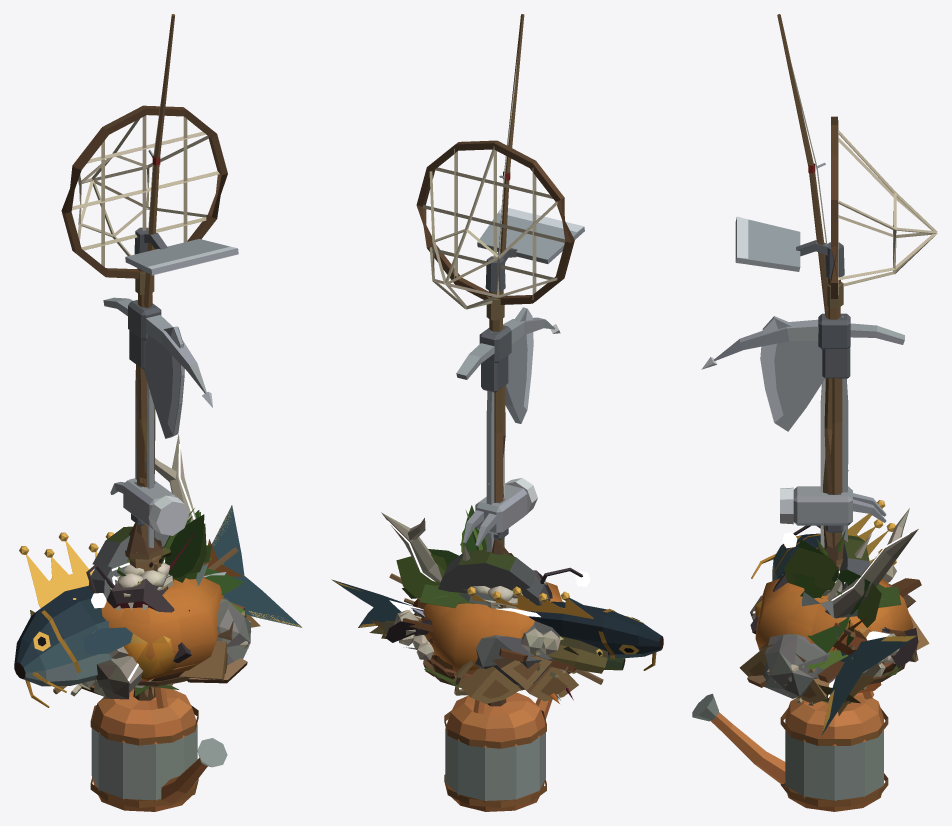
The model's file is items.glb.
3 views of the same model, side by side, from view 1: azimuth 30°, elevation 25°; view 2: azimuth 150°, elevation 25°; view 3: azimuth 270°, elevation 25° (orthographic). The views are drawn at different scales.
Visible parts, largest first — view 1: fish_sovereign, tool_can, tool_net, item_pumpkin, tool_axe, tool_pickaxe, tool_hoe, item_trophy_stag, tool_hammer, fish_angler, item_beet, tool_rod (+9 smaller); view 2: tool_can, tool_net, fish_sovereign, item_pumpkin, item_wood, tool_hoe, relic_tablet, tool_axe, tool_pickaxe, tool_hammer, item_stone, fish_eel (+8 smaller); view 3: tool_can, tool_axe, item_pumpkin, tool_pickaxe, tool_net, fish_sovereign, tool_hoe, tool_hammer, item_stone, item_trophy_stag, item_turnip, tool_rod (+7 smaller).
Boxes of the visible parts, left/top/right/bottom form: fish_sovereign: left=14, top=505, right=302, bottom=707; tool_can: left=90, top=687, right=227, bottom=811; tool_net: left=61, top=105, right=227, bottom=294; item_pumpkin: left=101, top=546, right=224, bottom=677; tool_axe: left=129, top=326, right=184, bottom=700; tool_pickaxe: left=103, top=297, right=212, bottom=535; tool_hoe: left=125, top=227, right=238, bottom=487; item_trophy_stag: left=96, top=434, right=196, bottom=699; tool_hammer: left=110, top=478, right=189, bottom=693; fish_angler: left=86, top=564, right=191, bottom=663; item_beet: left=165, top=510, right=243, bottom=595; tool_rod: left=143, top=14, right=174, bottom=697; tool_can: left=444, top=692, right=552, bottom=811; tool_net: left=416, top=140, right=574, bottom=320; fish_sovereign: left=331, top=579, right=663, bottom=670; item_pumpkin: left=419, top=582, right=561, bottom=678; item_wood: left=453, top=655, right=578, bottom=703; tool_hoe: left=477, top=208, right=584, bottom=331; relic_tablet: left=438, top=549, right=550, bottom=604; tool_axe: left=481, top=307, right=533, bottom=706; tool_pickaxe: left=456, top=317, right=560, bottom=545; tool_hammer: left=463, top=478, right=537, bottom=546; item_stone: left=475, top=621, right=564, bottom=686; fish_eel: left=369, top=620, right=607, bottom=673; tool_can: left=692, top=691, right=888, bottom=811; tool_axe: left=760, top=316, right=850, bottom=548; item_pumpkin: left=755, top=578, right=913, bottom=663; tool_pickaxe: left=701, top=313, right=904, bottom=547; tool_net: left=827, top=116, right=937, bottom=307; fish_sovereign: left=751, top=500, right=917, bottom=734; tool_hoe: left=735, top=216, right=844, bottom=490; tool_hammer: left=780, top=486, right=886, bottom=532; item_stone: left=763, top=583, right=892, bottom=698; item_trophy_stag: left=750, top=508, right=918, bottom=620; item_turnip: left=784, top=547, right=881, bottom=669; tool_rod: left=777, top=14, right=848, bottom=471.
Bounding box in the file's own units: 0.7353 × 1.85 × 0.5297.
